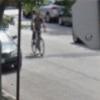bicycles: (30, 29, 46, 60)
